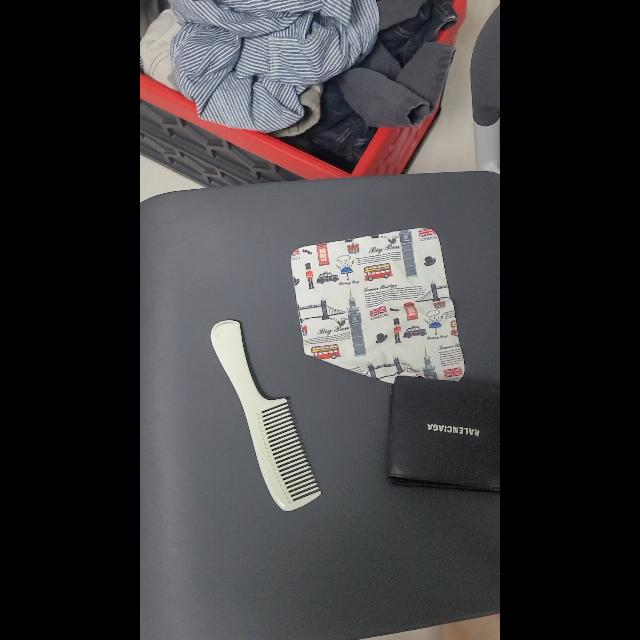COMB: (211, 320, 321, 512)
Glasses cleaning cloth: (292, 228, 464, 384)
WALLET: (388, 376, 500, 492)
